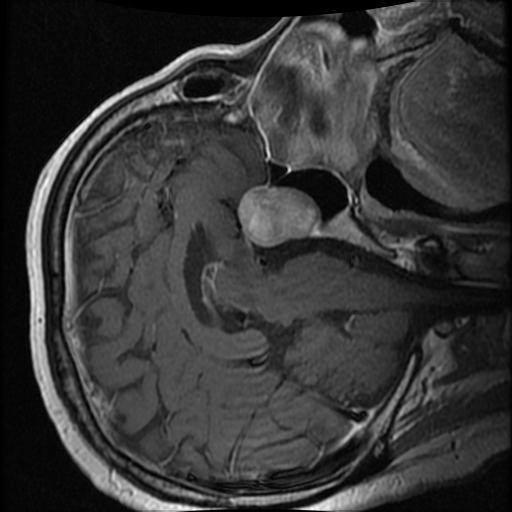pituitary tumour: (237, 186, 317, 245)
